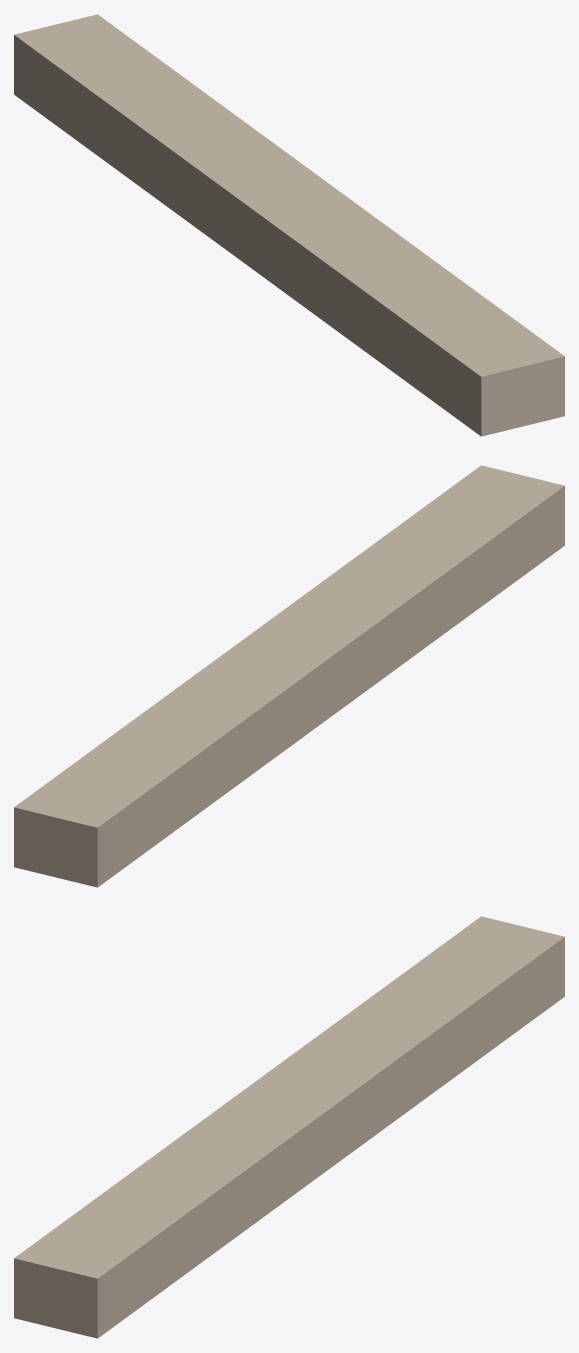
The model's file is Roof_L.fbx.
3 views of the same model, one above another, from view 1: azimuth 30°, elevation 25°; view 2: azimuth 150°, elevation 25°; view 3: azimuth 330°, elevation 25° (orthographic).
Parts seen in each view (by area): view 1: Cube.010; view 2: Cube.010; view 3: Cube.010.
Boxes of the visible parts, <box> form: Cube.010: <box>14,14,564,436</box>; Cube.010: <box>14,465,564,887</box>; Cube.010: <box>14,916,564,1338</box>.
Size of the model in its own units: 33.58 by 22.95 by 325.
